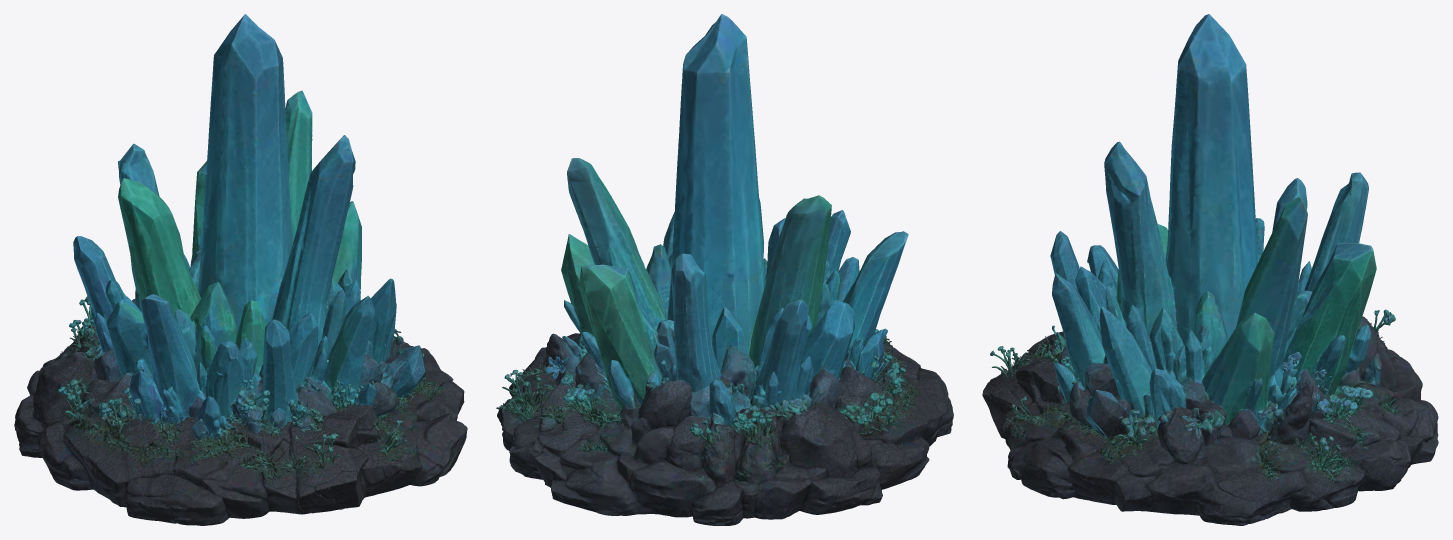
Rendered from Meshy_AI_magical_crystal_forma_0823035403_image-to-3d-texture.glb.
3 views of the same model, side by side, from view 1: azimuth 30°, elevation 25°; view 2: azimuth 150°, elevation 25°; view 3: azimuth 270°, elevation 25° (orthographic).
Visible parts, largest first — view 1: mesh_node; view 2: mesh_node; view 3: mesh_node.
Part boxes in pixels (<box>): mesh_node: <box>14,14,467,525</box>; mesh_node: <box>496,14,953,525</box>; mesh_node: <box>982,14,1438,525</box>.
Bounding box in the file's own units: 1.85 × 1.9 × 1.87.
1 material, 1 textured.
